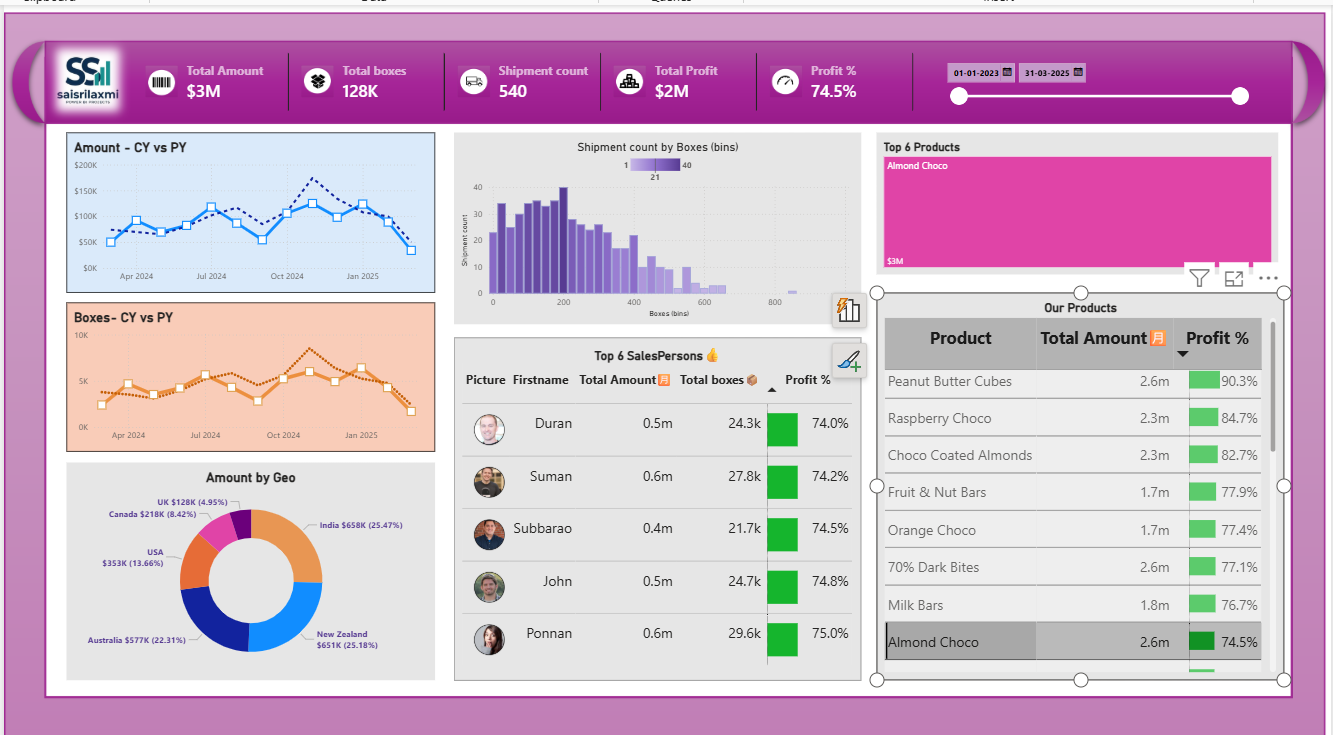

The page's visual inventory and layout, read from the dashboard file:
{"tool":"powerbi","page":{"name":"Page 6","canvas":[1280,720],"ordinal":5},"visuals":[{"type":"lineChart","fields":{"Y":["shipments.Total Amount","shipments.Total amount (last year)","shipments.Total variance (12)"],"Category":["calendar.year","calendar.month_name"]},"box":[10.7,0,962.9,295.4],"z":0},{"type":"tableEx","fields":{"Values":["calendar.year","calendar.month_name","shipments.Total Amount","shipments.Total amount (last year)","shipments.Total variance (12)"]},"box":[0,243.8,672.8,477],"z":1000},{"type":"donutChart","fields":{"Category":["locations.Geo"],"Y":["shipments.Total Amount"]},"box":[672.8,295.4,519.7,425.4],"z":2000}]}

Visuals, with their boxes on the page's 1280x720 design canvas (x1, y1, x2, y2). These are canvas units, not pixel positions in the 1333x735 screenshot, which may show the page scaled, cropped or inside an application window:
lineChart - shipments.Total Amount x shipments.Total amount (last year): [left=11, top=0, right=974, bottom=295]
tableEx - calendar.year x calendar.month_name: [left=0, top=244, right=673, bottom=721]
donutChart - locations.Geo x shipments.Total Amount: [left=673, top=295, right=1192, bottom=721]
